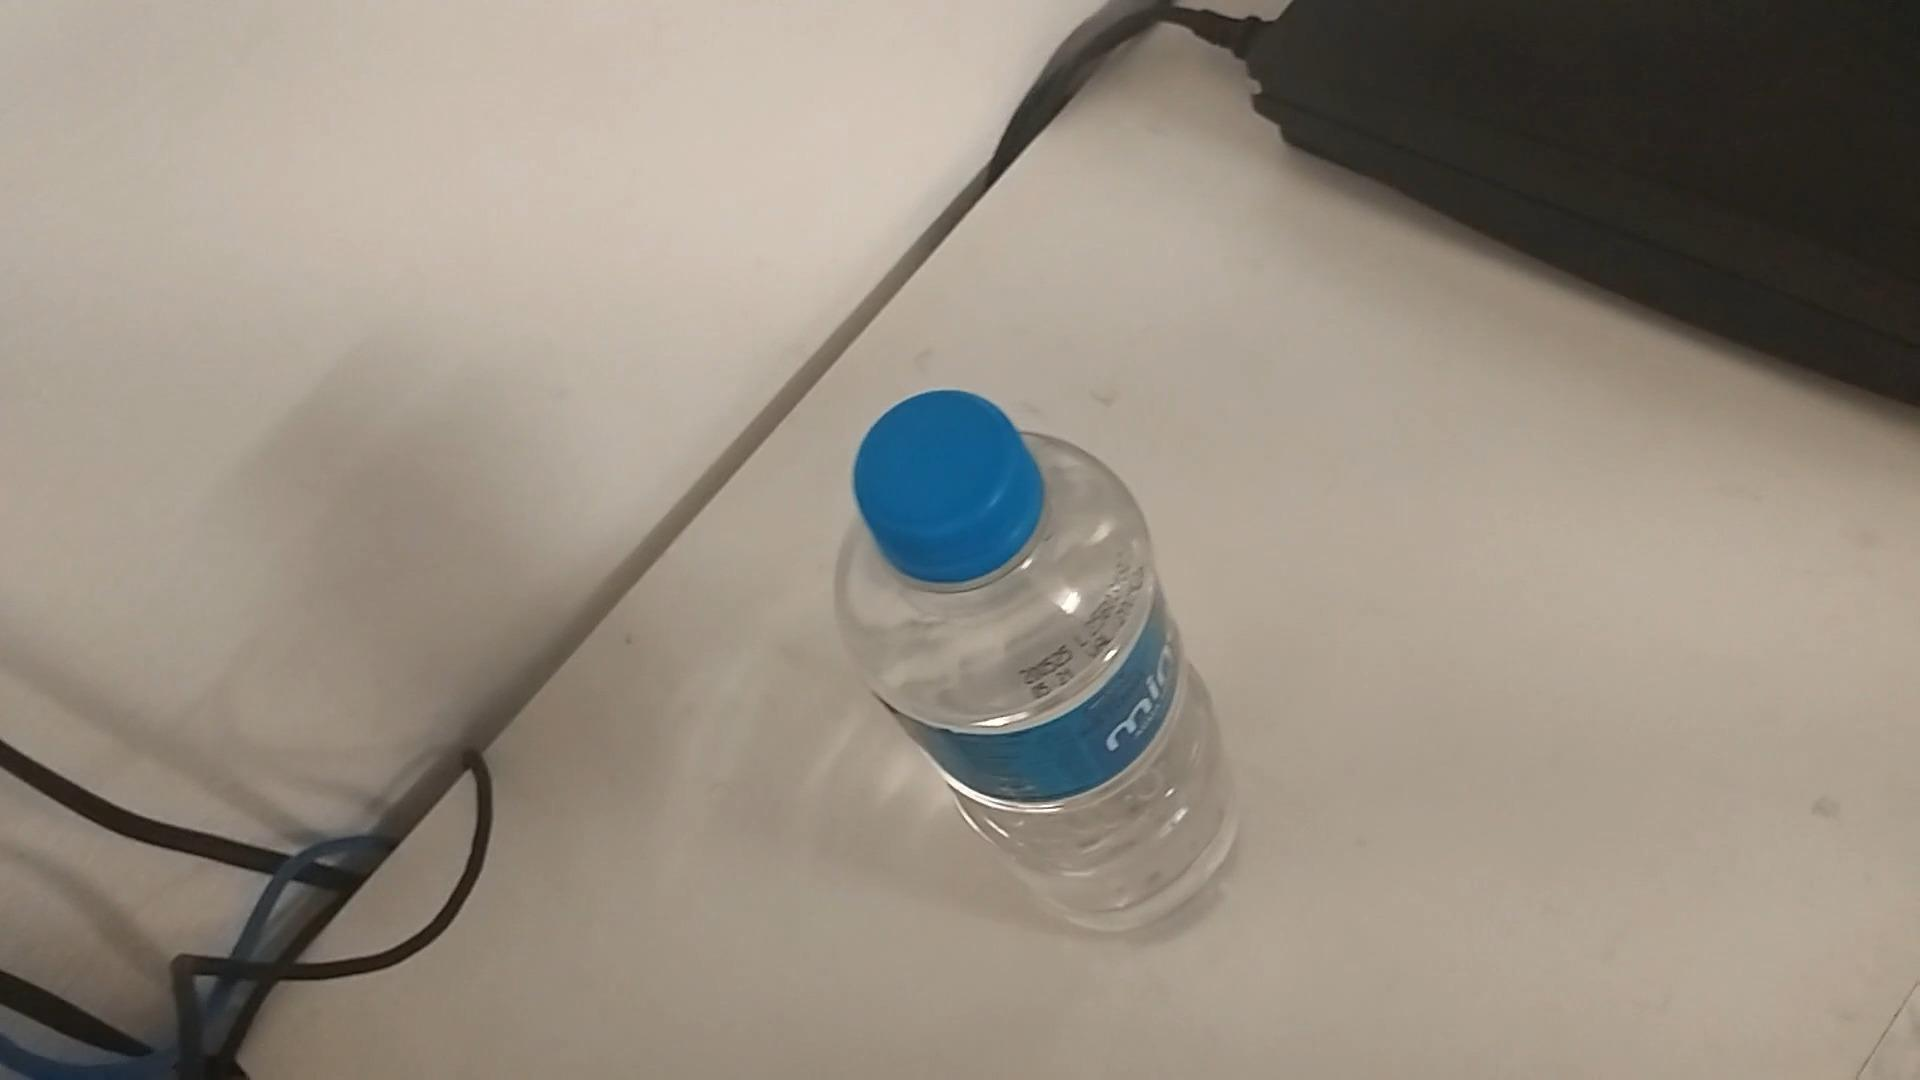agua: (833, 390, 1228, 934)
